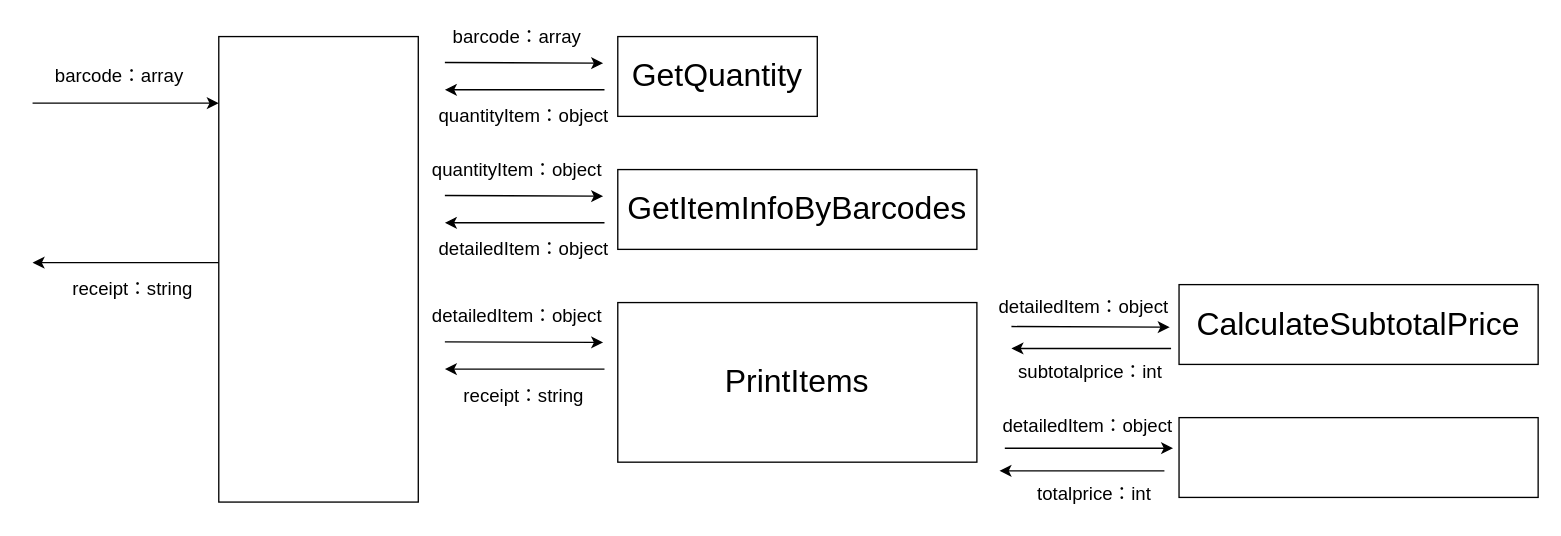
The diagram is 1561 pixels wide and 536 high, and some of its shapes have lost their labels. The shapes that lost their labels are listed below. From the top down, each one's centre as x and y in pixels, then its label:
At (x=317, y=268): "PrintReceipt".
At (x=1358, y=456): "CalculateTotalPrice".
